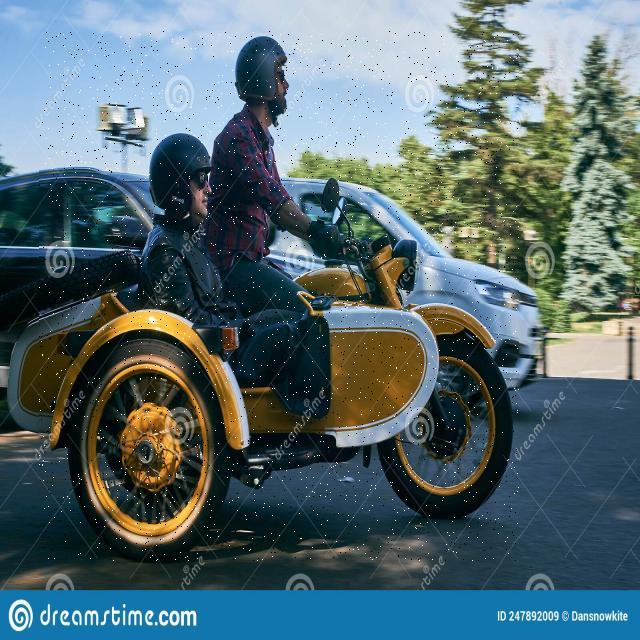With Helmet: (39, 31, 519, 562)
